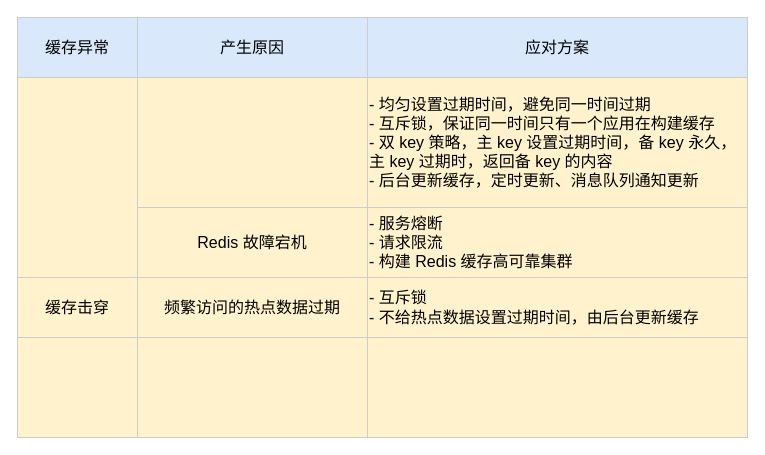
Some shapes in this 765 by 455 pixel diagram are drawn without their labels. Here are the shapes that lost their labels. From the top down, the box of each, then its label:
(136, 76, 368, 208): 大量数据同时过期
(16, 76, 138, 278): 缓存雪崩
(16, 336, 138, 438): 缓存穿透
(136, 336, 368, 438): 访问的数据既不在缓存，也不在数据库
(366, 336, 748, 438): - 非法请求的限制； - 缓存空值或者默认值； - 使用布隆过滤器快速判断数据是否存在；
